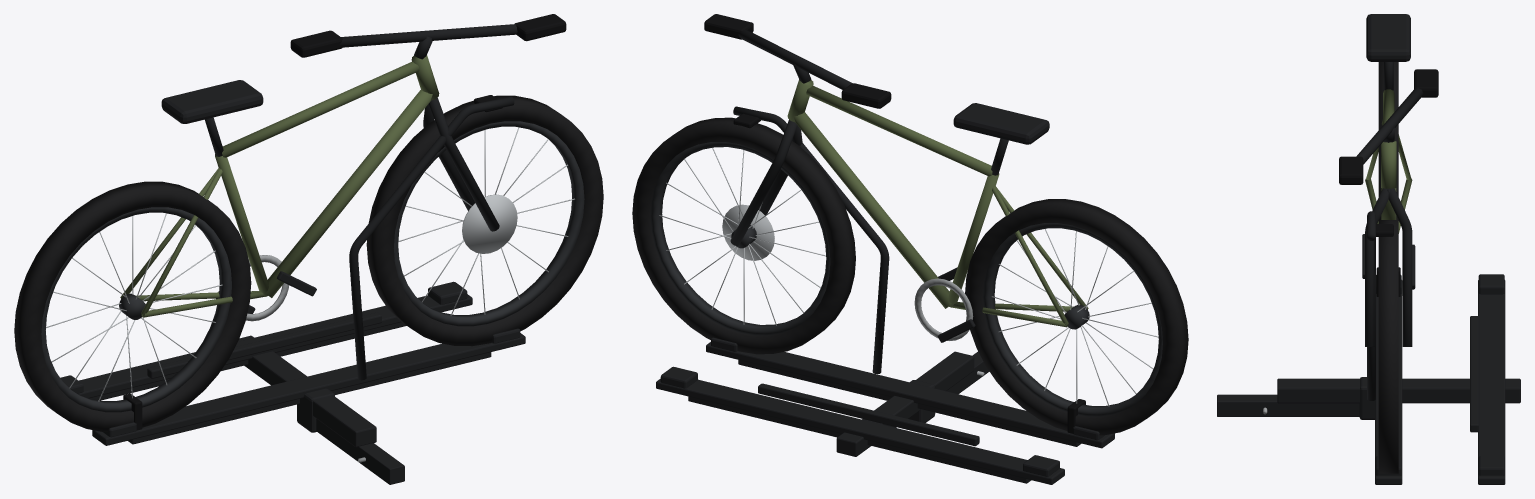
File: carrier_thule_t2pro.glb
The picture shows the model from 3 angles, left to right: view 1: azimuth 30°, elevation 25°; view 2: azimuth 150°, elevation 25°; view 3: azimuth 270°, elevation 25°; orthographic projection. The views are drawn at different scales.
Visible parts, largest first — view 1: bike0RTyre, bike0FTyre, tray0, bike0FRim, bike0RRim, bike0Down, tray1, arm0, spine.002, bike0Saddle, bike0Top, bike0FDisc (+16 smaller); view 2: bike0RTyre, bike0FTyre, tray1, tray0, bike0FRim, bike0RRim, bike0Down, spine.002, armFolded1, bike0Saddle, arm0, bike0Top (+15 smaller); view 3: bike0FTyre, tray1, spine.002, shank, bike0Saddle, bike0Fork-1, tray0, bike0Fork1, armFolded1, bike0RTyre, bike0Bar, arm0 (+7 smaller).
Part boxes in pixels (x1,y1,x2,y2): bike0RTyre: [14, 181, 251, 431]; bike0FTyre: [366, 95, 603, 346]; tray0: [92, 333, 525, 445]; bike0FRim: [393, 121, 584, 326]; bike0RRim: [41, 207, 231, 412]; bike0Down: [265, 90, 432, 297]; tray1: [78, 294, 472, 398]; arm0: [349, 96, 514, 380]; spine.002: [238, 335, 376, 447]; bike0Saddle: [161, 80, 263, 123]; bike0Top: [222, 61, 419, 157]; bike0FDisc: [462, 194, 517, 253]; bike0RTyre: [965, 199, 1188, 435]; bike0FTyre: [632, 117, 855, 354]; tray1: [656, 379, 1064, 484]; tray0: [706, 342, 1114, 448]; bike0FRim: [650, 142, 830, 335]; bike0RRim: [983, 223, 1162, 416]; bike0Down: [793, 112, 951, 308]; spine.002: [836, 351, 974, 456]; armFolded1: [758, 383, 979, 446]; bike0Saddle: [953, 103, 1049, 144]; arm0: [733, 106, 889, 374]; bike0Top: [806, 86, 992, 176]; bike0FTyre: [1378, 220, 1398, 473]; tray1: [1478, 280, 1505, 484]; spine.002: [1277, 378, 1520, 403]; shank: [1217, 394, 1359, 416]; bike0Saddle: [1366, 14, 1410, 61]; bike0Fork-1: [1387, 188, 1412, 346]; tray0: [1375, 280, 1402, 484]; bike0Fork1: [1365, 188, 1389, 346]; armFolded1: [1470, 316, 1478, 432]; bike0RTyre: [1378, 62, 1398, 219]; bike0Bar: [1356, 88, 1423, 164]; arm0: [1367, 211, 1375, 400].
Bounding box in the file's own units: 1.89 × 1.12 × 0.885.
